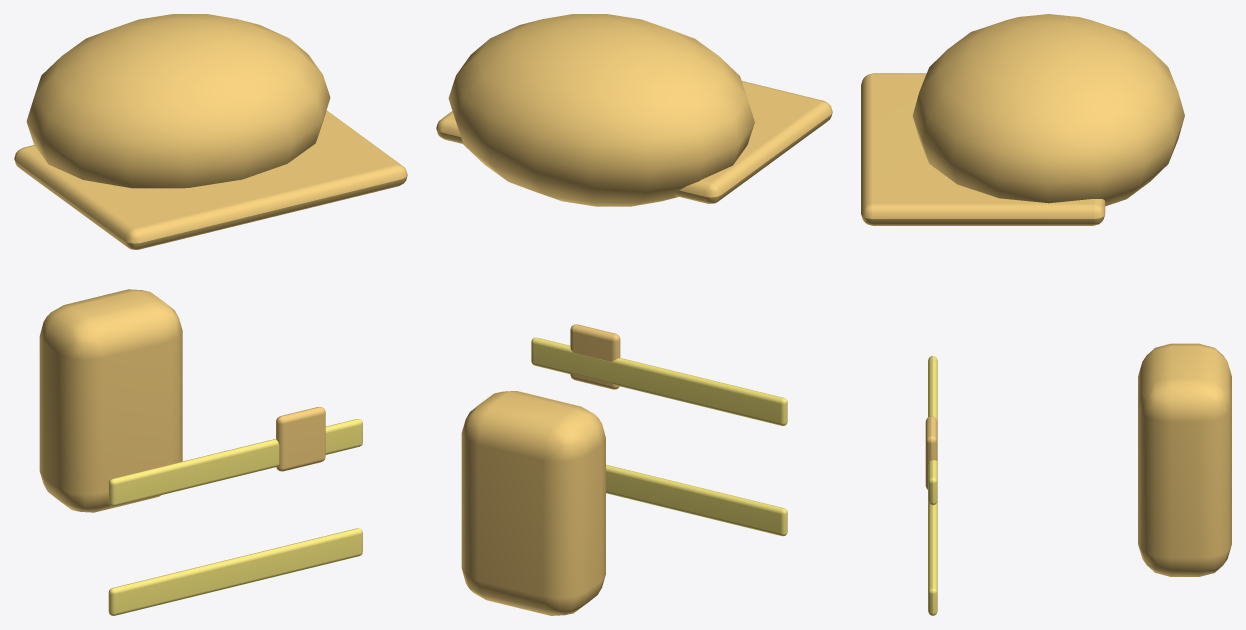
Rendered from firefighter-kit.glb.
3 renders of one model, left to right at view 1: azimuth 30°, elevation 25°; view 2: azimuth 150°, elevation 25°; view 3: azimuth 270°, elevation 25°, orthographic.
Visible parts, largest first — view 1: air pack, reflective band; view 2: air pack, reflective band; view 3: air pack, reflective band.
Boxes of the visible parts, box(x1,y1,x2,y2) form: air pack: box(14, 14, 407, 512); reflective band: box(108, 419, 362, 615); air pack: box(436, 14, 832, 615); reflective band: box(531, 337, 787, 536); air pack: box(861, 14, 1231, 576); reflective band: box(928, 356, 937, 615).
Size of the model in its own units: 0.7 by 1.22 by 0.79.
